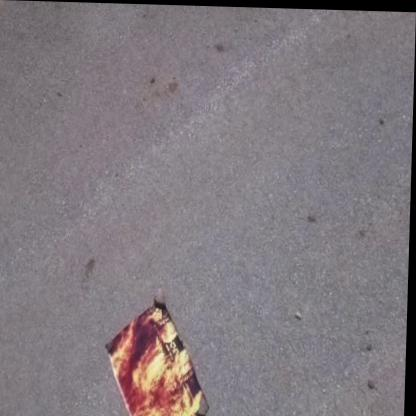fire-poster: (105, 286, 215, 416)
